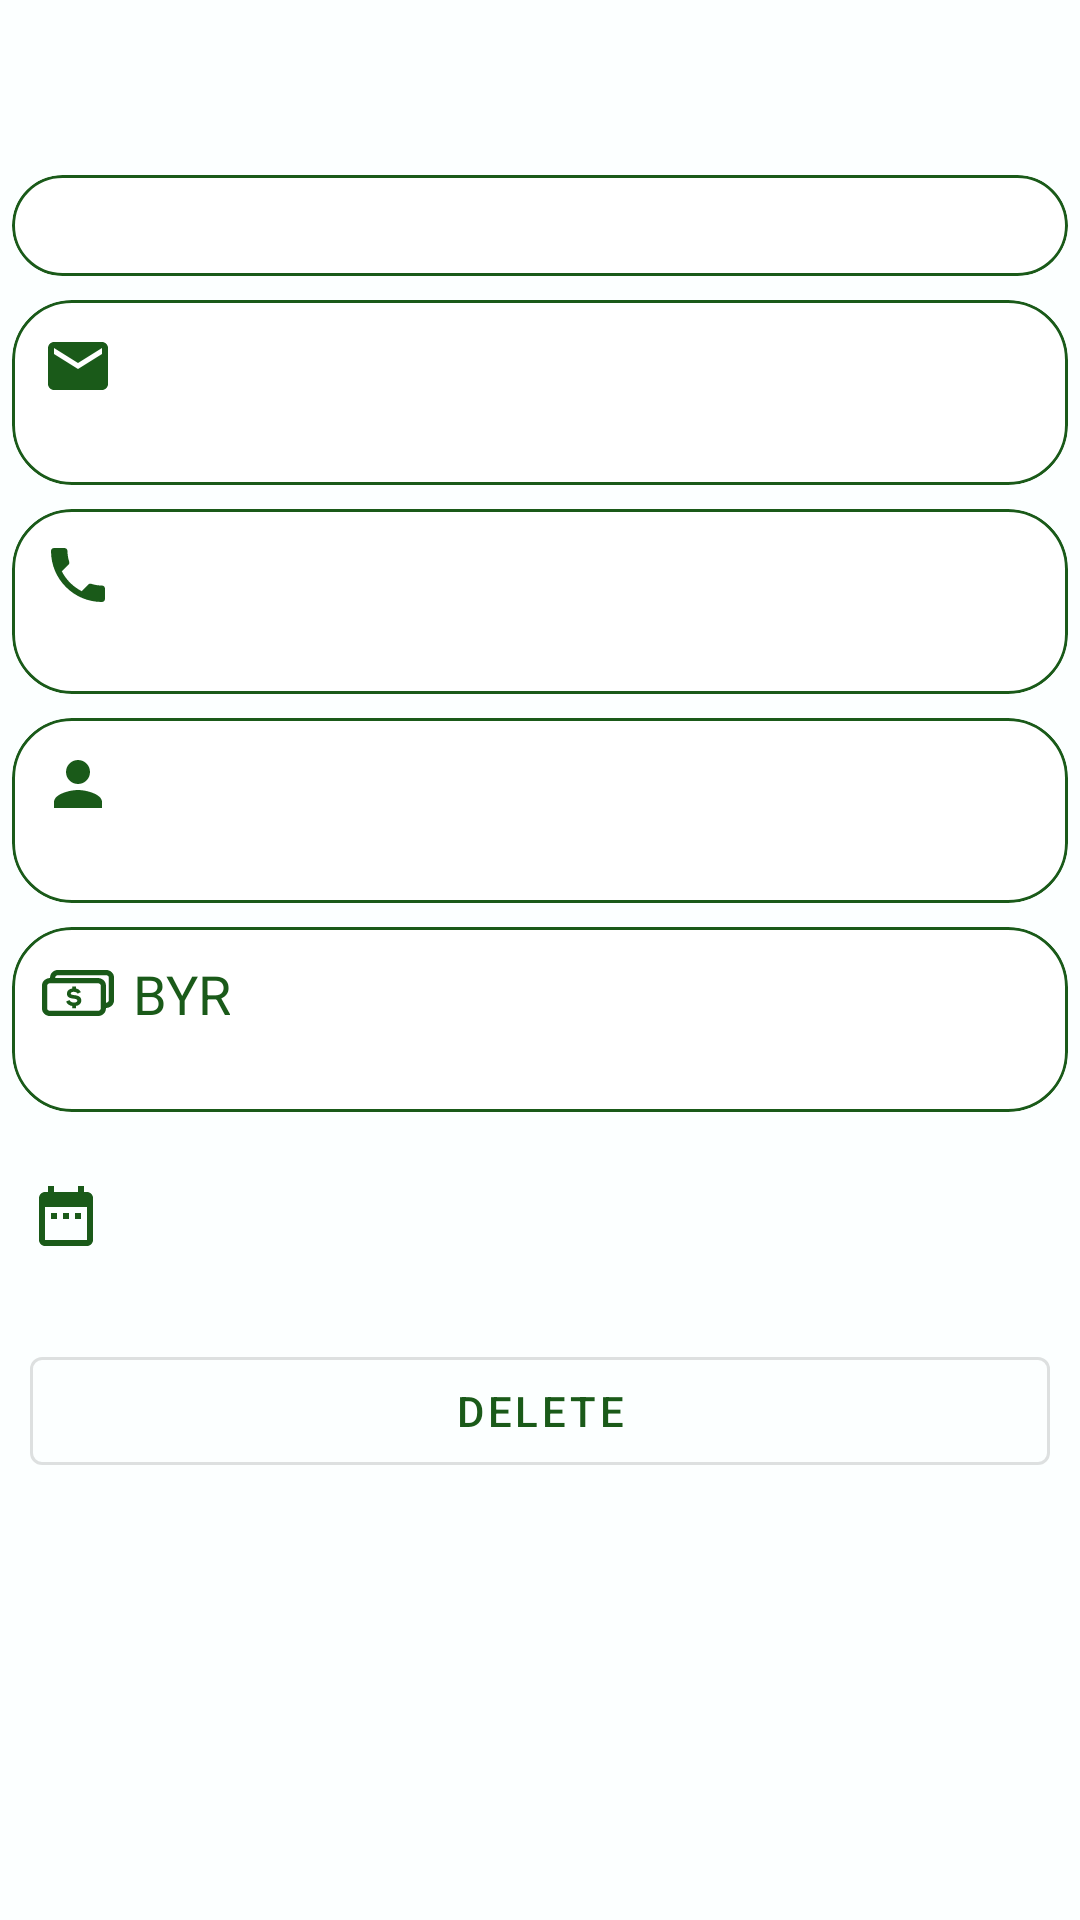

Screen size 1080px x 1920px. Icon name, then its box in pixels as {"x1": x1, "y1": y1, "x2": x2, "y2": y2}:
date: {"x1": 39, "y1": 1186, "x2": 93, "y2": 1246}
email: {"x1": 48, "y1": 342, "x2": 108, "y2": 390}
person: {"x1": 54, "y1": 760, "x2": 102, "y2": 808}
phone: {"x1": 51, "y1": 548, "x2": 105, "y2": 602}
